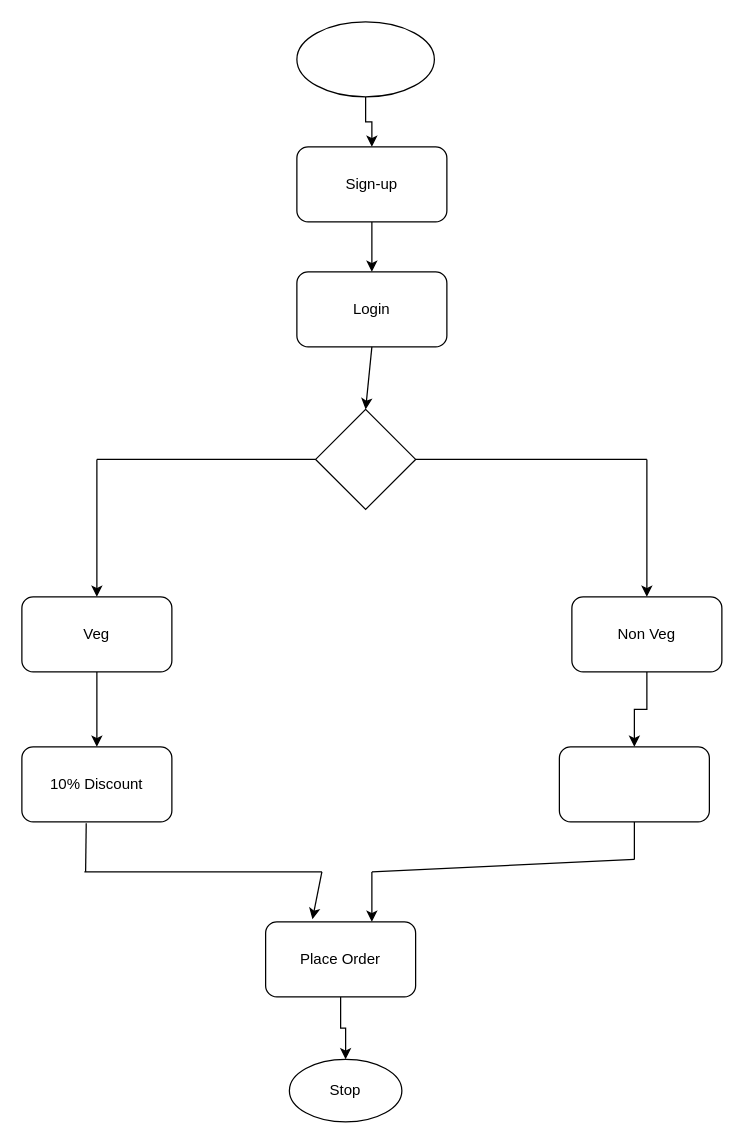
Image size: 744x1144. Some labels were removed from this diagram. The centre of each missing label's shape, as x and y in pixels:
"40% Discount" belongs at pixel 633 784.
"Menu" belongs at pixel 365 458.
"start" belongs at pixel 365 59.
